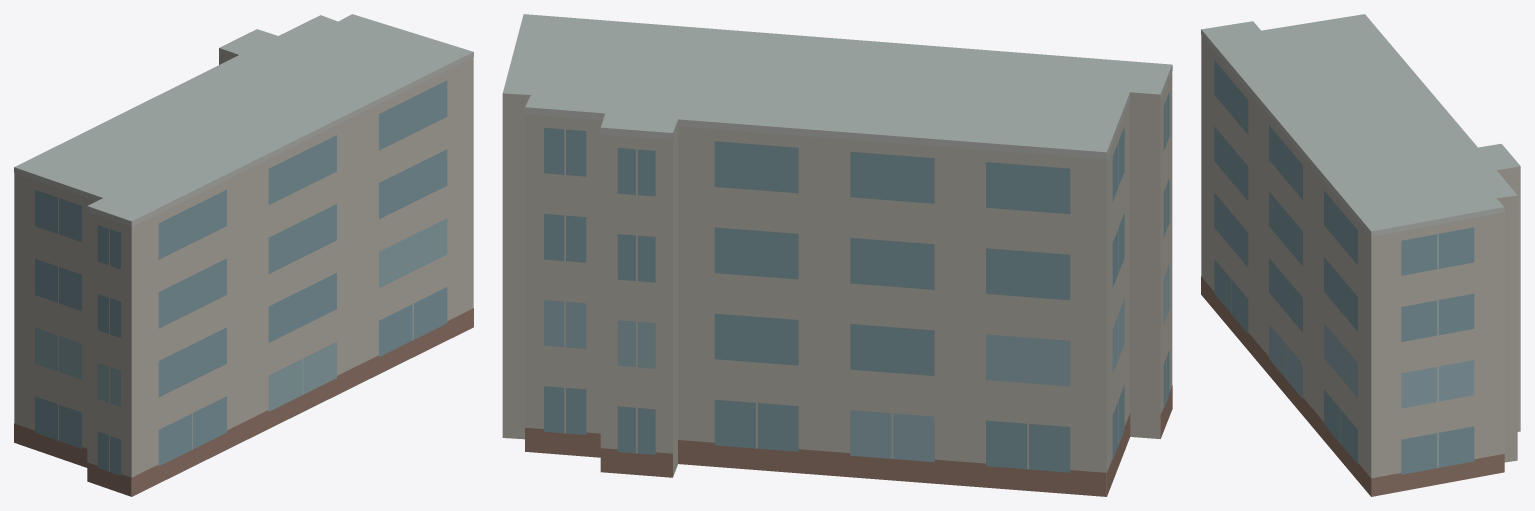
File: survey-upis-32755979.glb
3 renders of one model, left to right at view 1: azimuth 30°, elevation 25°; view 2: azimuth 150°, elevation 25°; view 3: azimuth 270°, elevation 25°, orthographic. The views are drawn at different scales.
Visible parts, largest first — view 1: survey-upis-32755979.tmp; view 2: survey-upis-32755979.tmp; view 3: survey-upis-32755979.tmp.
Boxes of the visible parts, x1,y1,x2,y2 form: survey-upis-32755979.tmp: [14, 14, 473, 496]; survey-upis-32755979.tmp: [502, 14, 1172, 496]; survey-upis-32755979.tmp: [1201, 14, 1520, 496].
Size of the model in its own units: 21.38 by 12.15 by 13.27.
